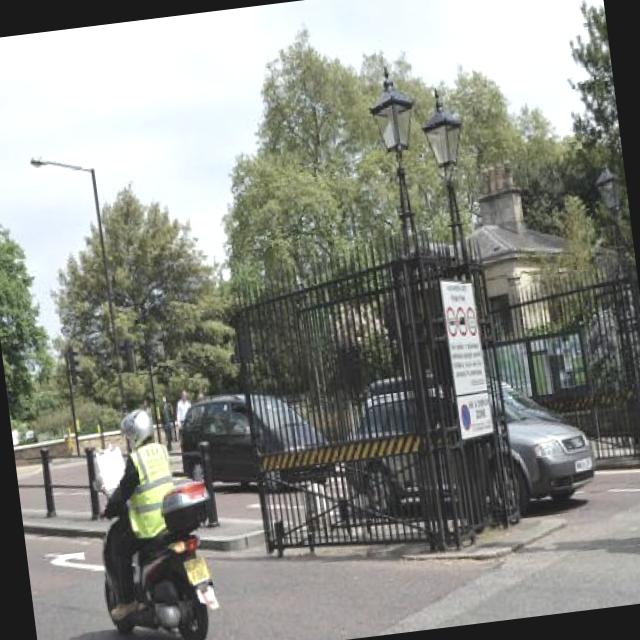Person: (83, 406, 188, 625), (170, 385, 192, 430), (228, 403, 249, 430), (206, 402, 224, 431)
